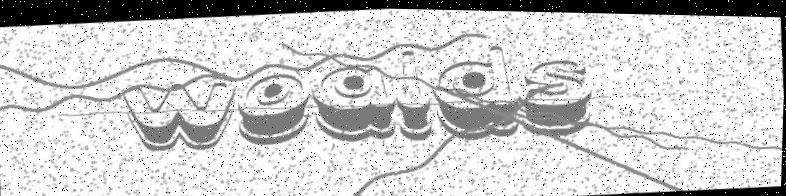a: (308, 58, 400, 146)
d: (429, 40, 531, 147)
l: (386, 45, 440, 144)
o: (234, 70, 318, 147)
s: (520, 54, 597, 135)
w: (107, 75, 241, 156)
